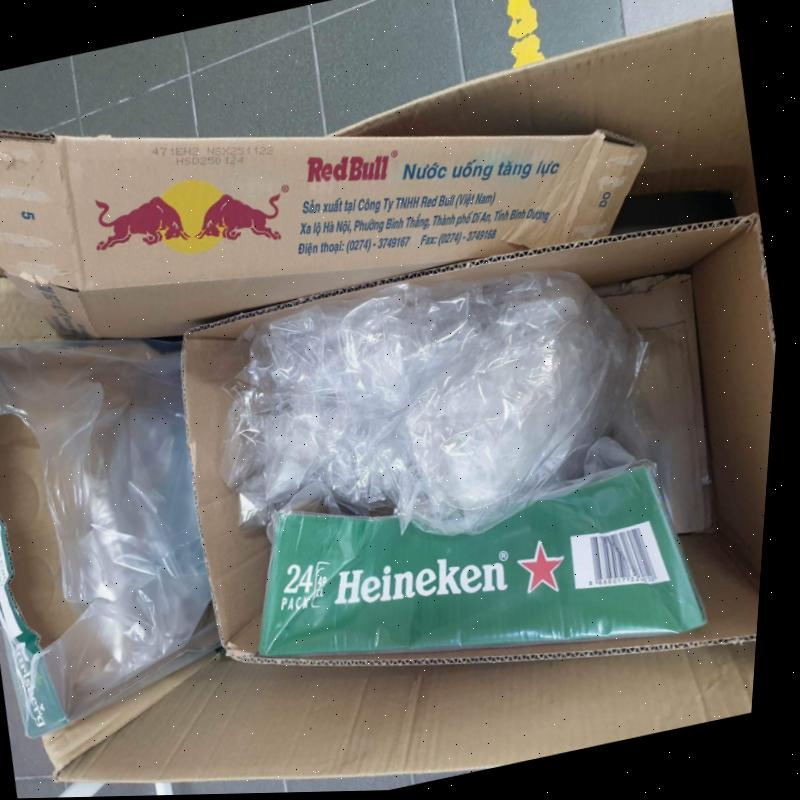cardboard: (182, 210, 775, 666), (0, 127, 650, 337)
plastic bag: (224, 264, 650, 538)
